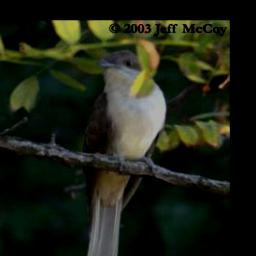Cuckoo: (78, 49, 167, 256)
